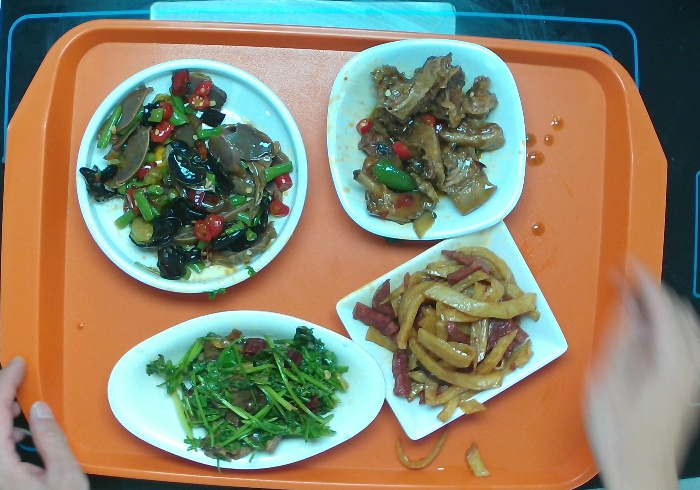HZYJPL-Si_Fang_Die: (329, 221, 572, 438)
HZYJPL-Si_Fang_Yuan_Die: (318, 33, 536, 246)
HZYJPL-Xiao_Yu_Die: (100, 306, 390, 472)
HZYJPL-Xiao_Yuan_Die: (65, 54, 310, 298)
